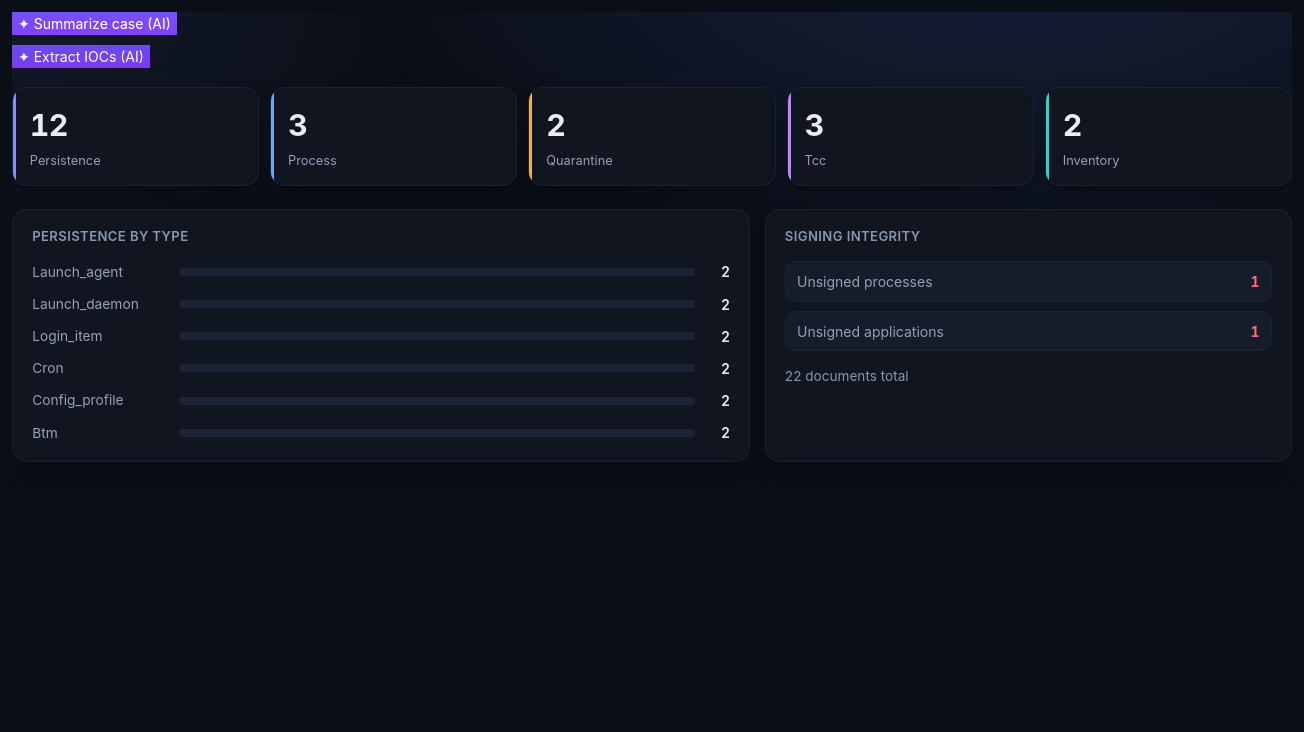
Scenario: Overview › generates an AI case summary on demand
Click the button "✦ Summarize case (AI)" at coordinates (94, 24), box [12, 12, 177, 35]
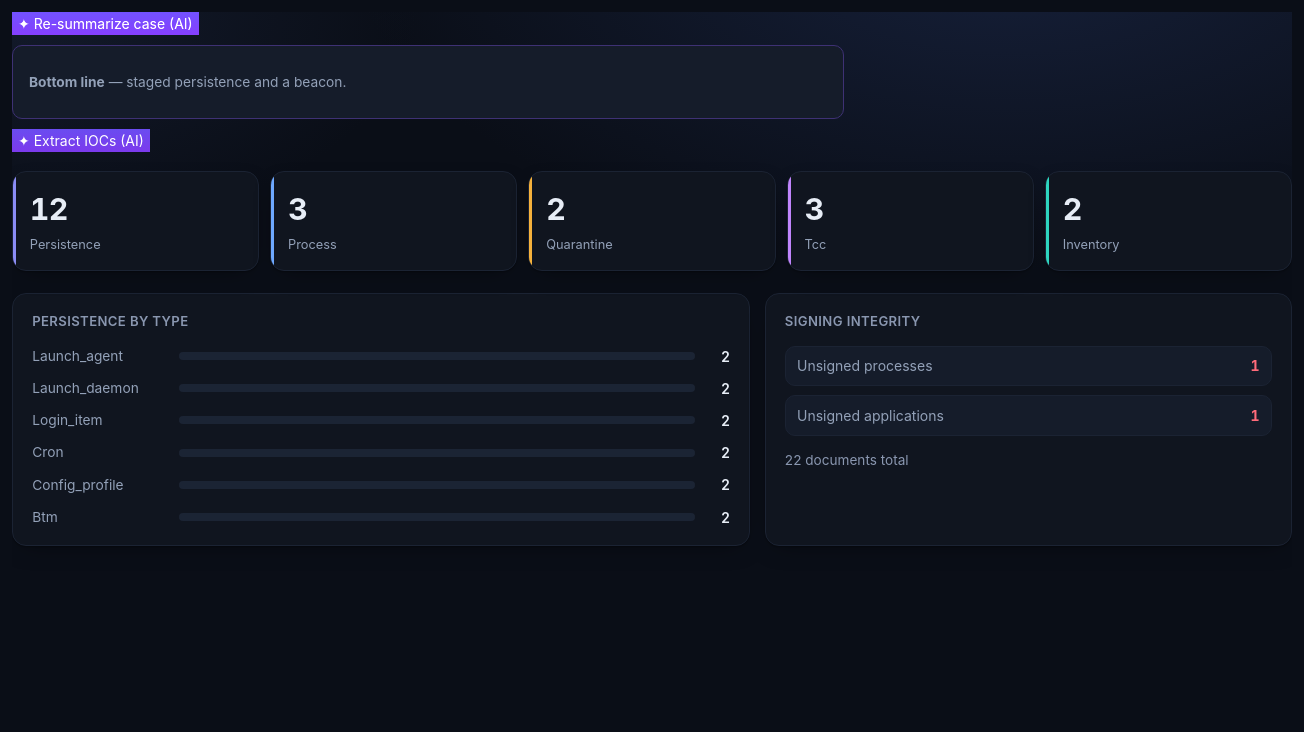
Expected: the text "Bottom line" is shown, [29, 74, 105, 90]
